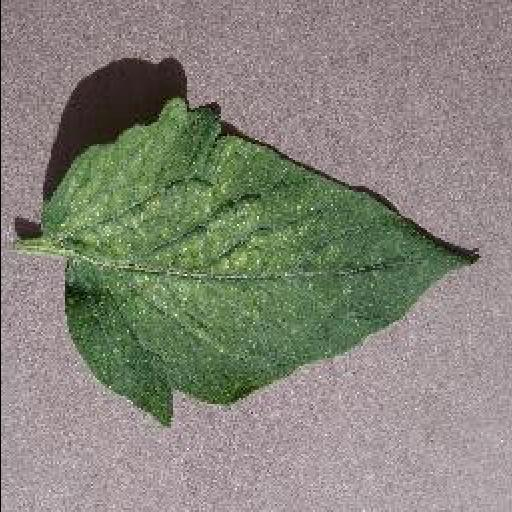disease_tomato: (44, 98, 482, 428)
